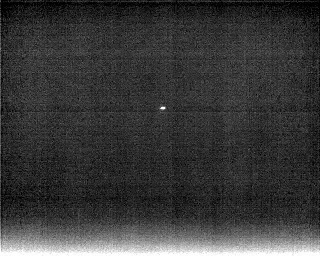BIRD: (158, 104, 168, 113)
